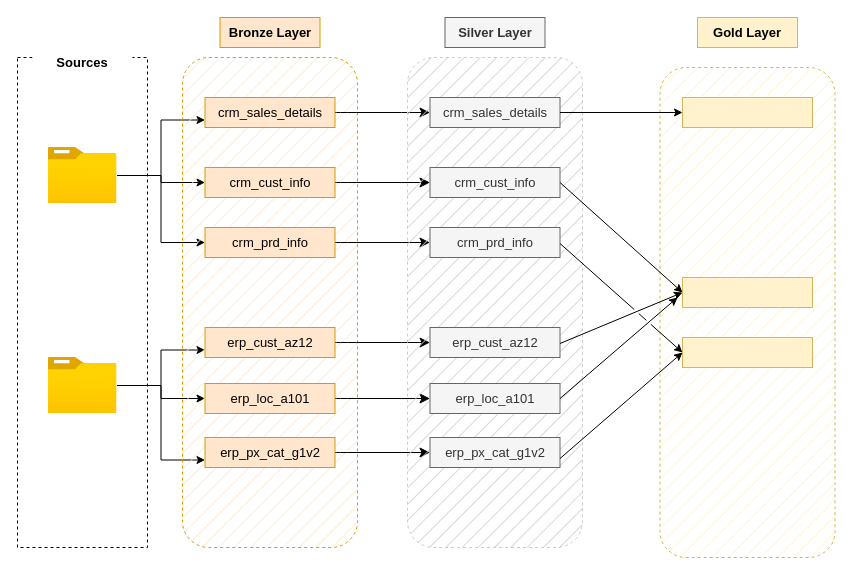
Some shapes in this 853 by 575 pixel diagram are drawn without their labels. The shapes that lost their labels are listed below. From the top down, each one's centre as x and y in pixels, then its label:
point (747, 112): fact_sales
point (82, 175): CRM
point (747, 292): dim_customer
point (747, 352): dim_product
point (82, 385): ERP
